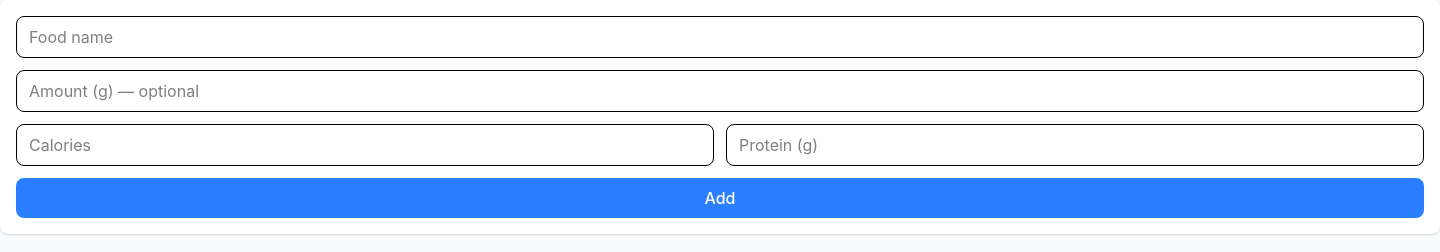
FoodEntryForm › scales calories/protein when amount changes after autocomplete select
// Trigger autocomplete
Click the field labelled "Food name" at (720, 37), box x1=16 y1=16 x2=1424 y2=58
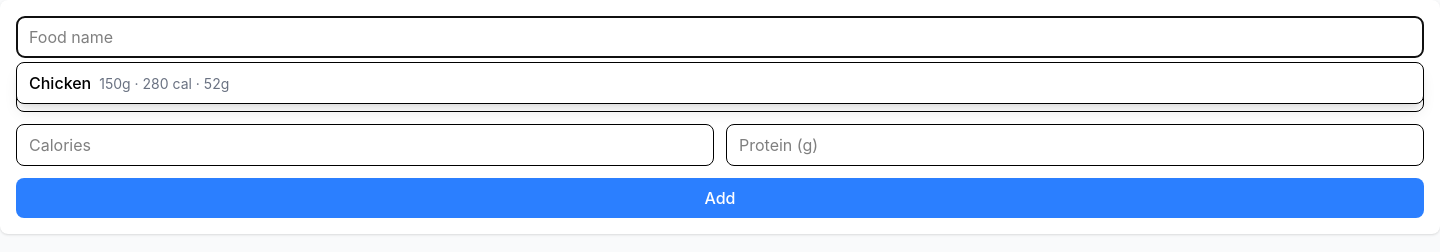
Click the text "Chicken" at (60, 83), box x1=29 y1=73 x2=91 y2=93
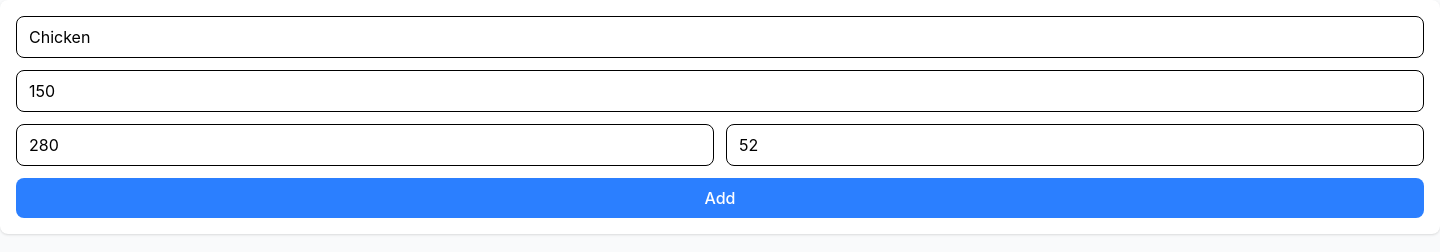
Now the number field named "Amount (g)" holds "150"
Now the number field named "Calories" holds "280", box x1=16 y1=124 x2=714 y2=166
Now the number field named "Protein (g)" holds "52", box x1=726 y1=124 x2=1424 y2=166
// Change amount to 200
Replace the text in the number field named "Amount (g)" with "200" at (720, 91), box x1=16 y1=70 x2=1424 y2=112
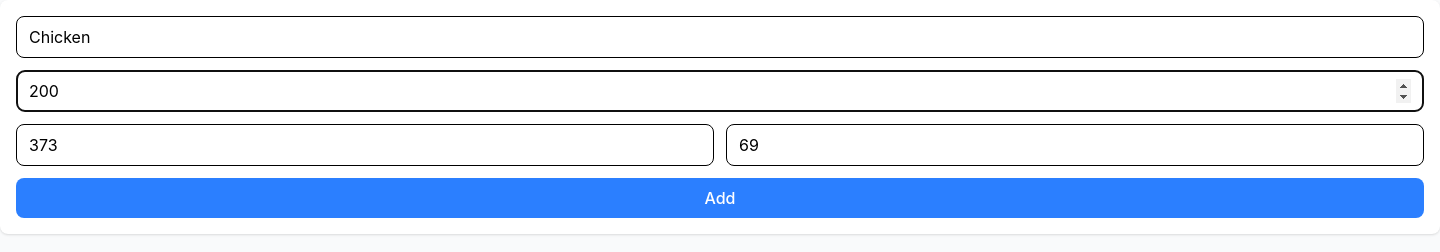
Now the number field named "Calories" holds "373", box x1=16 y1=124 x2=714 y2=166
Now the number field named "Protein (g)" holds "69", box x1=726 y1=124 x2=1424 y2=166
